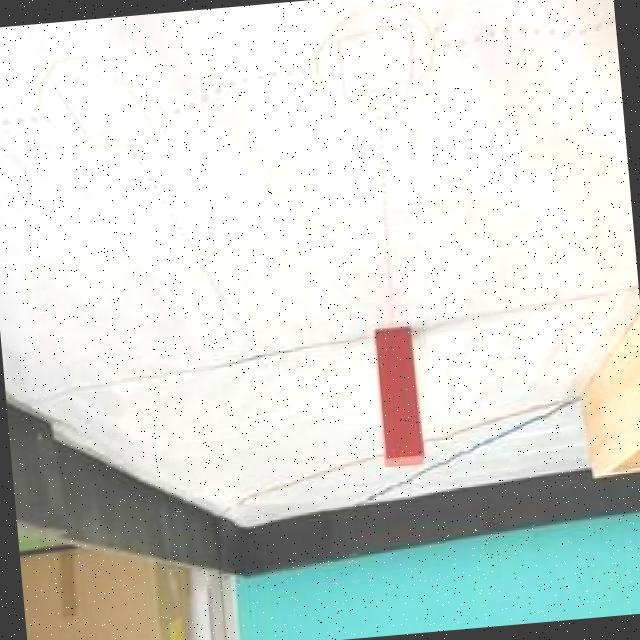redbox: (374, 328, 424, 469)
